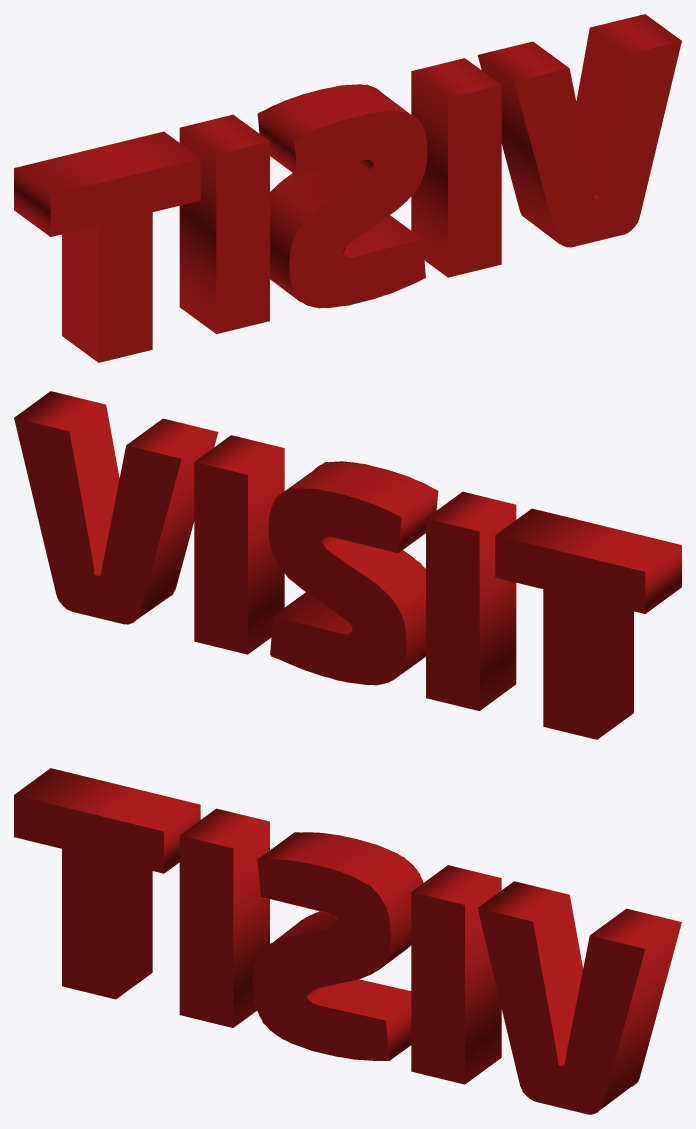
The model's file is visit.fbx.
3 views of the same model, one above another, from view 1: azimuth 30°, elevation 25°; view 2: azimuth 150°, elevation 25°; view 3: azimuth 330°, elevation 25° (orthographic).
Parts seen in each view (by area): view 1: Text; view 2: Text; view 3: Text.
Part boxes in pixels (x1=…): Text: x1=14, y1=14, x2=681, y2=362; Text: x1=14, y1=391, x2=681, y2=739; Text: x1=14, y1=768, x2=681, y2=1114.
Bounding box in the file's own units: 7.95 × 2.26 × 0.8.
